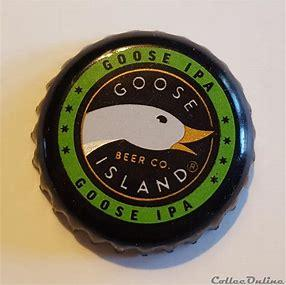metal: (34, 31, 255, 252)
